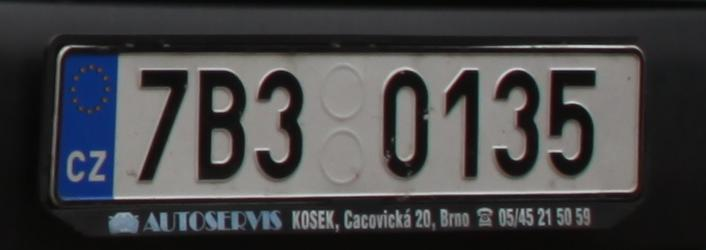0: (384, 68, 428, 178)
1: (445, 68, 482, 179)
3: (256, 70, 303, 181), (494, 68, 539, 179)
5: (550, 68, 596, 178)
7: (139, 68, 188, 182)
B: (200, 68, 245, 181)
